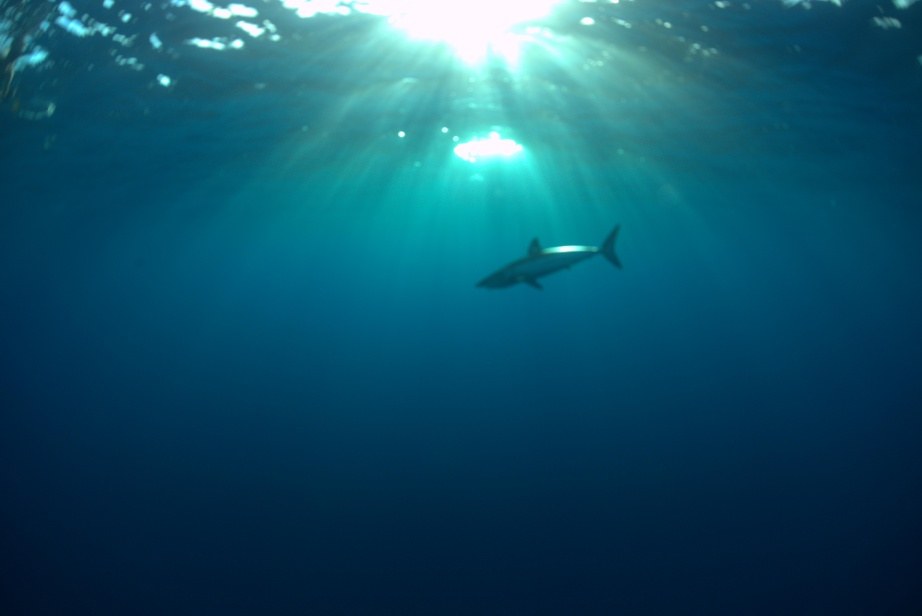Mako: (456, 220, 636, 294)
